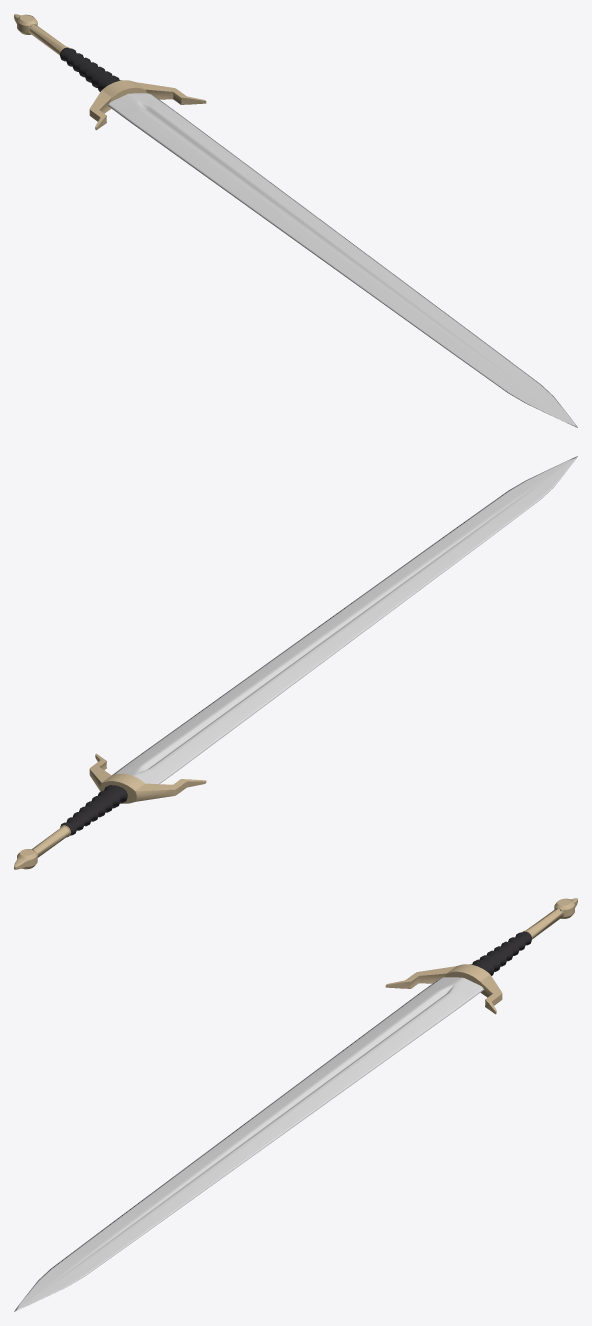
Rendered from Sword.fbx.
The picture shows the model from 3 angles, top to bottom: view 1: azimuth 30°, elevation 25°; view 2: azimuth 150°, elevation 25°; view 3: azimuth 330°, elevation 25°; orthographic projection.
Parts seen in each view (by area): view 1: Blade; view 2: Blade; view 3: Blade.
Boxes of the visible parts, bbox=[...] form: Blade: bbox=[14, 14, 577, 427]; Blade: bbox=[14, 456, 577, 869]; Blade: bbox=[14, 898, 577, 1311].
Bounding box in the file's own units: 160 × 29.25 × 1418.
